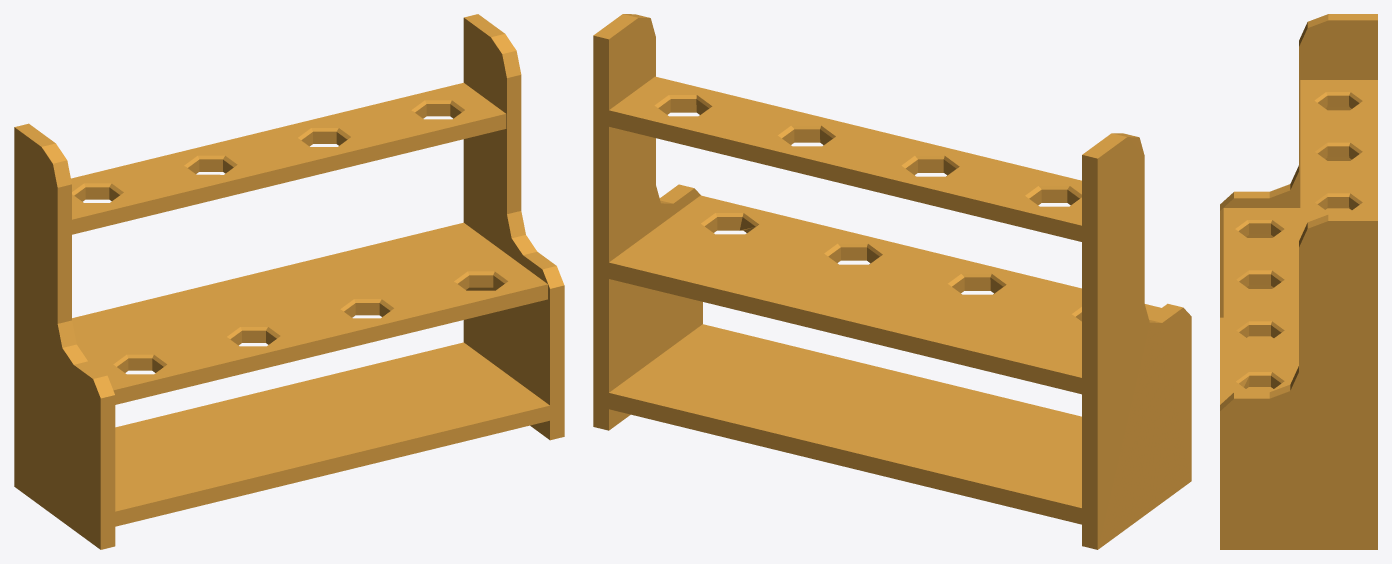
Rendered from SM_Lab_Tubes_Holder_Emoty.fbx.
3 renders of one model, left to right at view 1: azimuth 30°, elevation 25°; view 2: azimuth 150°, elevation 25°; view 3: azimuth 270°, elevation 25°, orthographic. The views are drawn at different scales.
Parts seen in each view (by area): view 1: lab-tubes-holder-emoty; view 2: lab-tubes-holder-emoty; view 3: lab-tubes-holder-emoty.
Boxes of the visible parts, x1,y1,x2,y2 form: lab-tubes-holder-emoty: (14, 14, 564, 549); lab-tubes-holder-emoty: (593, 14, 1191, 549); lab-tubes-holder-emoty: (1220, 14, 1377, 549).
Bounding box in the file's own units: 0.3599 × 0.2667 × 0.116.
